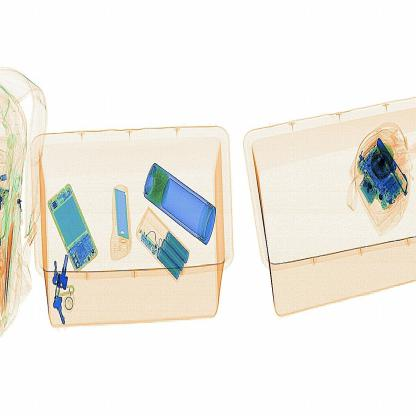pliers: (109, 184, 131, 262)
